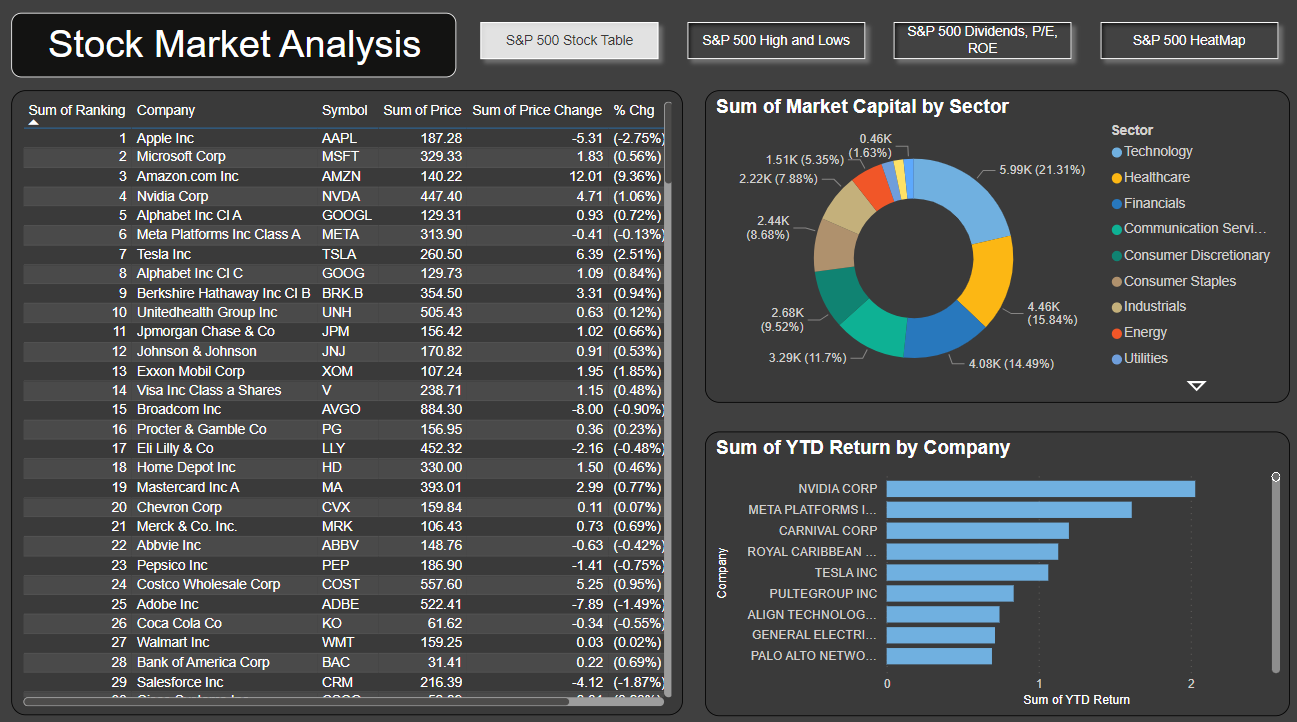

What the dashboard file says about the page in this screenshot:
{"tool":"powerbi","page":{"name":"S&P 500 Stock Table","canvas":[1280,720],"ordinal":0},"visuals":[{"type":"donutChart","title":"Sum of Market Capital by Sector","fields":{"Category":["S&P 500 Companies.Sector"],"Y":["Sum(S&P 500 Companies.Market Cap (USD) - Copy.1)"]},"box":[693.7,94.6,571.7,305.7],"z":0},{"type":"tableEx","fields":{"Values":["Sum(S&P 500.Ranking)","S&P 500.Company","S&P 500.Symbol","Sum(S&P 500.Price)","Sum(S&P 500.Price Change)","S&P 500.% Chg"]},"box":[16.5,94.6,656.7,611.5],"z":1000},{"type":"barChart","fields":{"Category":["S&P 500 YTD Return.Company"],"Y":["Sum(S&P 500 YTD Return.YTD Return)"]},"box":[693.7,427.8,571.7,278.3],"z":3000},{"type":"pageNavigator","box":[465.9,18.7,799.2,54.4],"z":4000},{"type":"textbox","box":[15.9,18.3,435.2,63.6],"z":5000}]}

Visuals, with their boxes in screenshot pixels (x1, y1, x2, y2), scaled from the page's 1280x720 canvas onto the 1297x722 screenshot:
"Sum of Market Capital by Sector" donutChart: left=703, top=95, right=1282, bottom=401
tableEx - Sum(S&P 500.Ranking) x S&P 500.Company: left=17, top=95, right=682, bottom=708
barChart - S&P 500 YTD Return.Company x Sum(S&P 500 YTD Return.YTD Return): left=703, top=429, right=1282, bottom=708
pageNavigator: left=472, top=19, right=1282, bottom=73
textbox: left=16, top=18, right=457, bottom=82
